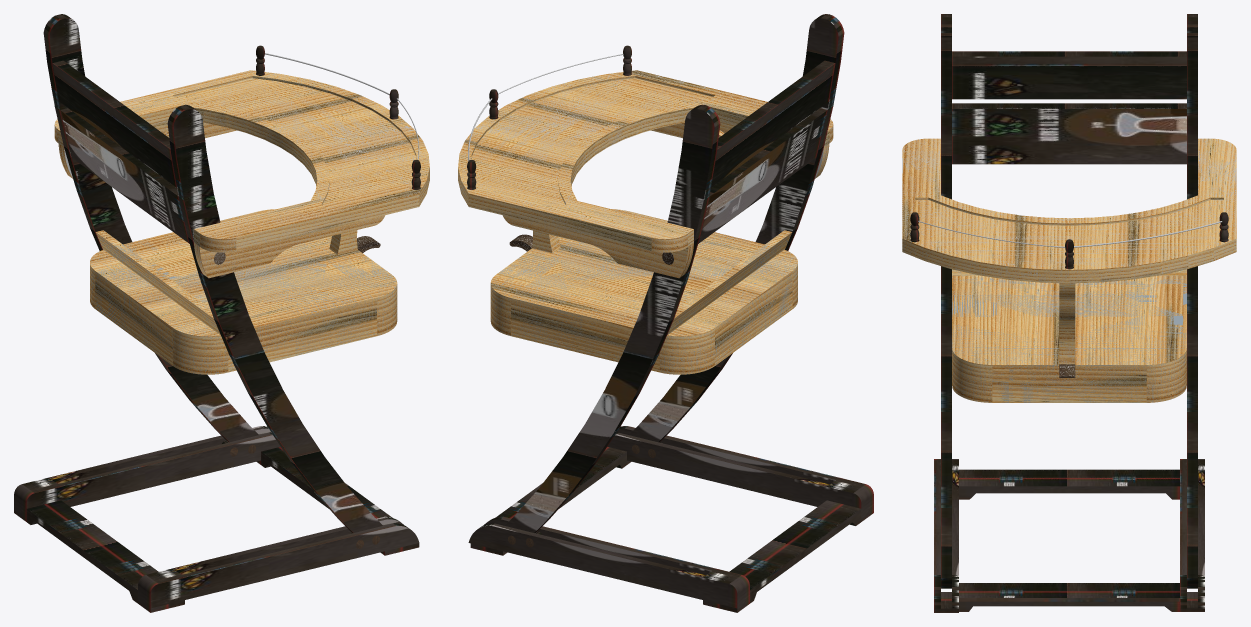
Rendered from baby_chair.dae.
3 views of the same model, side by side, from view 1: azimuth 30°, elevation 25°; view 2: azimuth 150°, elevation 25°; view 3: azimuth 270°, elevation 25° (orthographic).
Visible parts, largest first — view 1: group_5 (×2), group_0 (×2), group_2, group_10 (×2), group_1, group_11, group_12, group_14, group_13; view 2: group_5 (×2), group_0 (×2), group_12, group_10 (×2), group_11, group_1, group_2, group_14, group_13; view 3: group_5 (×3), group_0, group_10 (×2), group_13, group_14, group_2, group_12, group_1, group_11.
Part boxes in pixels (x1,y1,x2,y2): group_5 (×2): (54, 70, 429, 278); group_0 (×2): (90, 209, 397, 374); group_2: (167, 104, 382, 533); group_10 (×2): (52, 60, 189, 243); group_1: (138, 516, 419, 608); group_11: (14, 426, 280, 517); group_12: (43, 14, 258, 442); group_14: (14, 500, 158, 603); group_13: (256, 447, 391, 518); group_5 (×2): (458, 70, 833, 278); group_0 (×2): (490, 209, 797, 374); group_12: (505, 104, 720, 532); group_10 (×2): (698, 60, 835, 243); group_11: (468, 516, 749, 608); group_1: (607, 426, 873, 517); group_2: (629, 14, 844, 442); group_14: (703, 500, 861, 612); group_13: (470, 447, 626, 555); group_5 (×3): (902, 138, 1236, 364); group_0: (952, 275, 1186, 402); group_10 (×2): (952, 51, 1186, 164); group_13: (959, 583, 1204, 611); group_14: (959, 469, 1179, 499); group_2: (941, 14, 951, 588); group_12: (1187, 14, 1197, 588); group_1: (934, 459, 958, 608); group_11: (1180, 459, 1204, 608).
Size of the model in its own units: 26.61 by 24.47 by 39.39.
